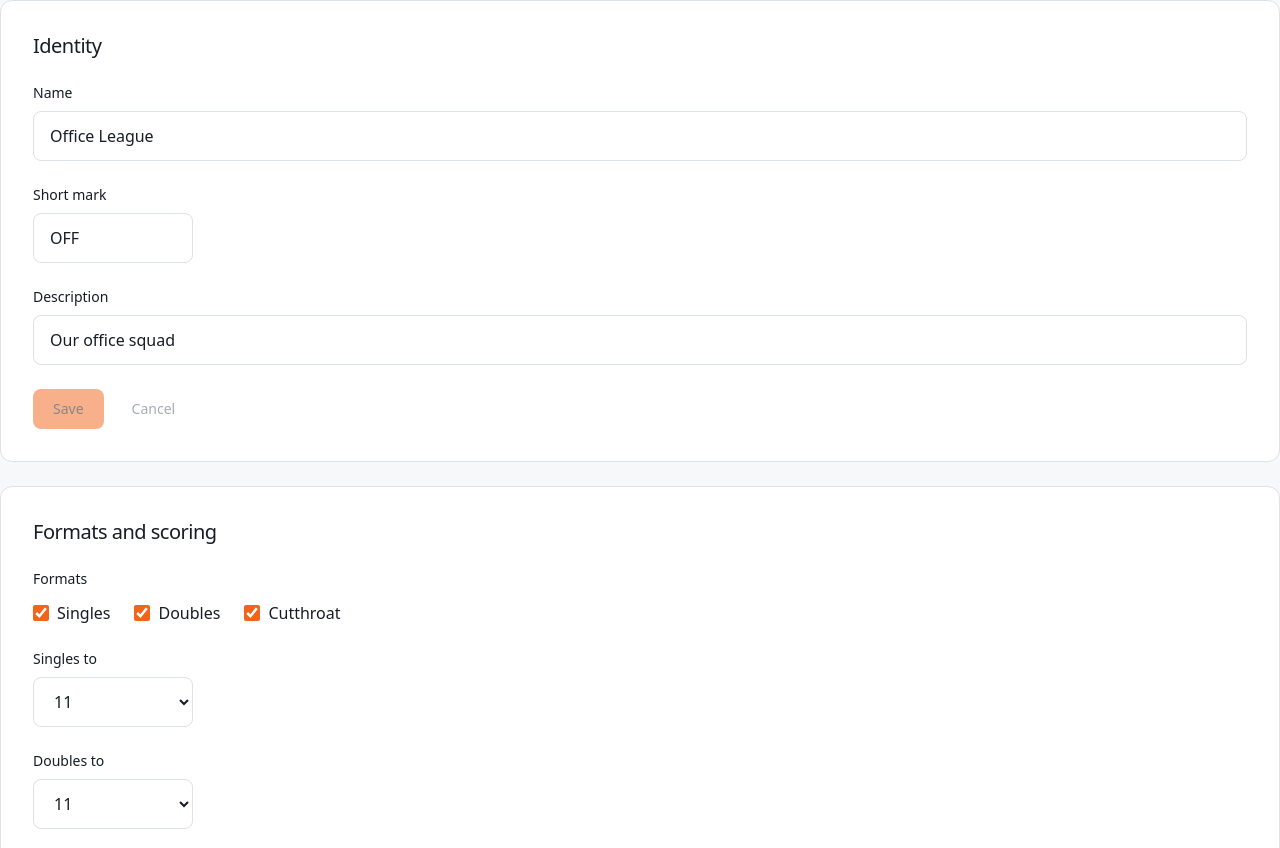
Scenario: a refusal the page words itself › keeps its own line for any other refusal that carries one
Replace the text in the field with id "setting-name" with "Renamed": coordinates (640, 136) [33,111,1247,161]
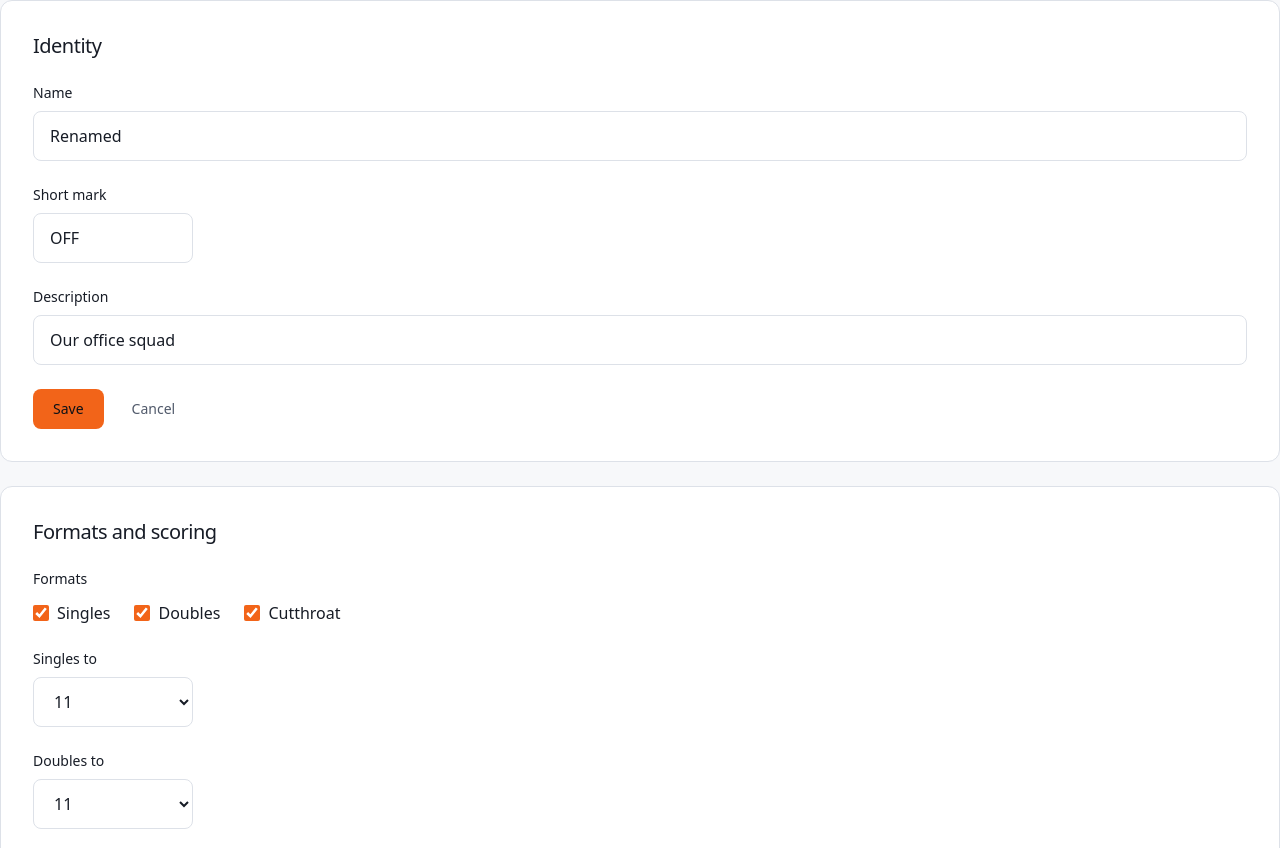
Click the button "Save": coordinates (68, 409) [33,389,104,429]
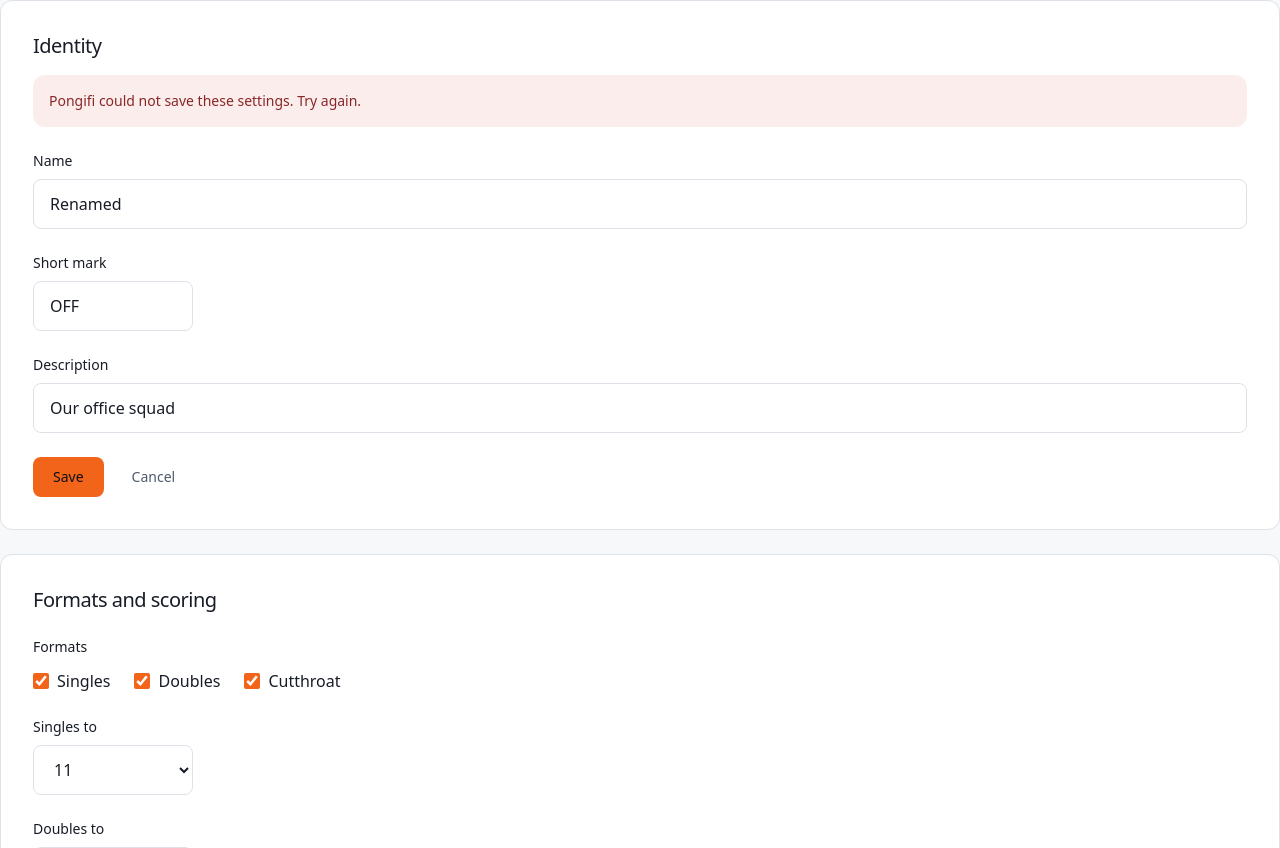
Result: the element that starts with "Identity" shows "Pongifi could not save these settings. Try again." at [49,91,361,110]
